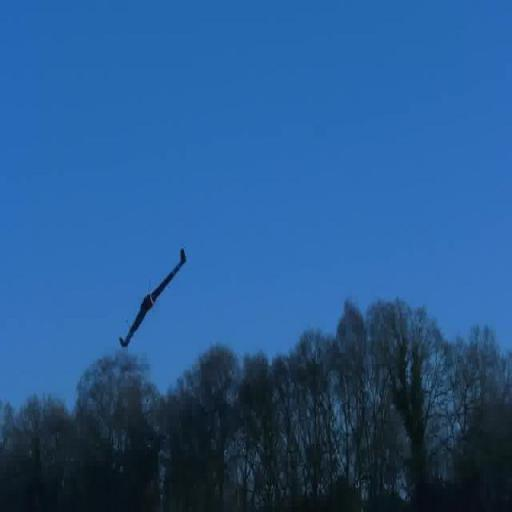uav: (114, 243, 195, 354)
